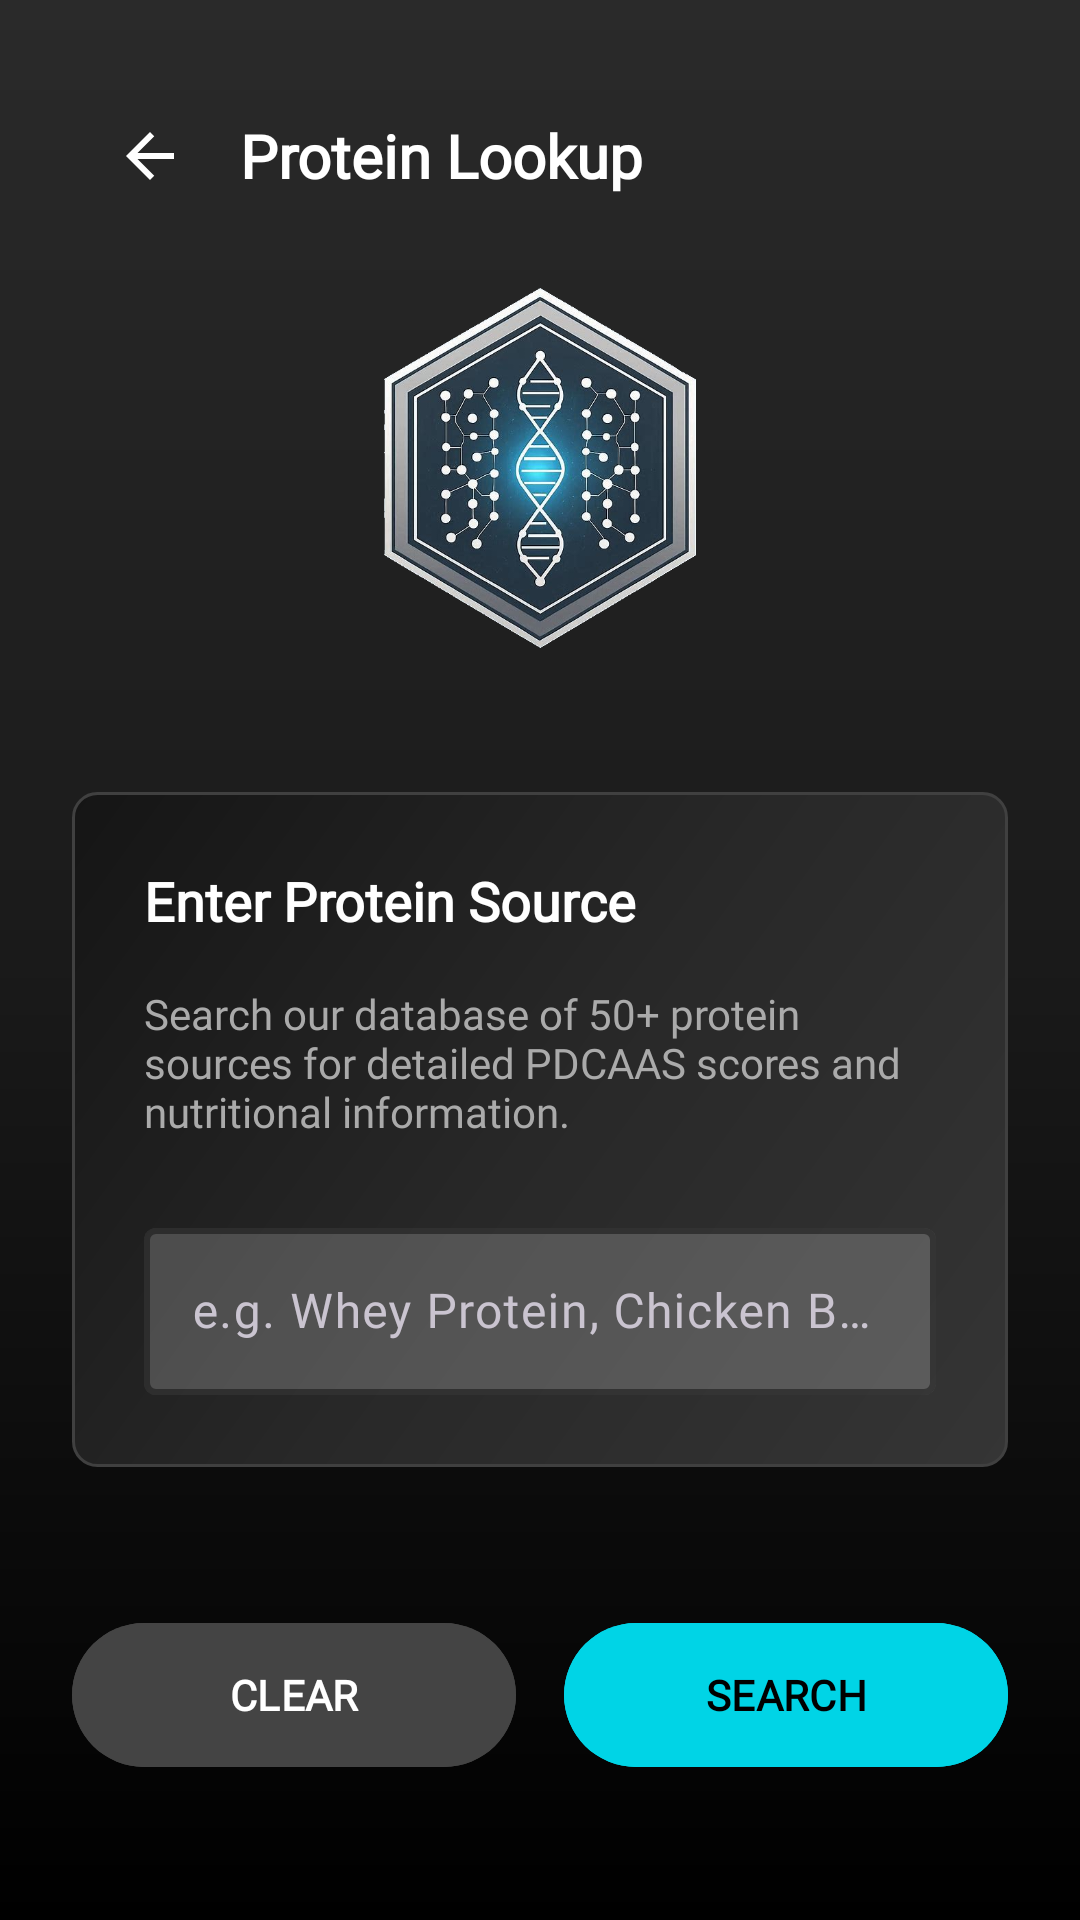

Where to tap for icons on this 1080*1920 app screen, as (x,y):
back: (150,156)
